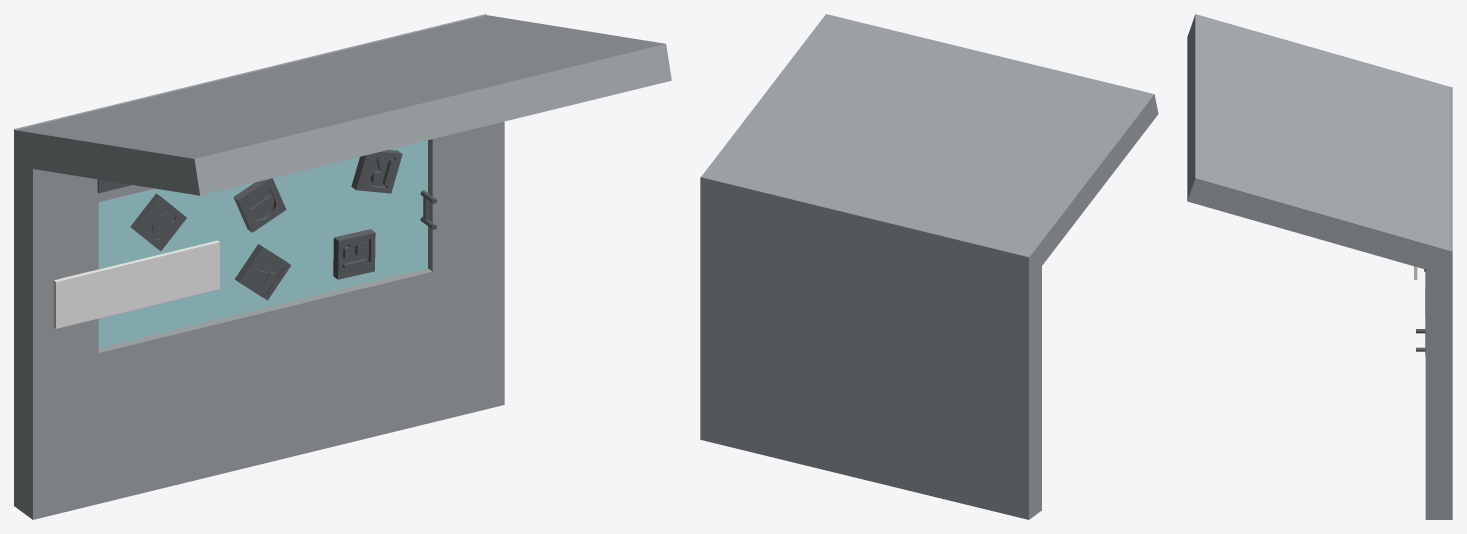
File: tinker.obj
The picture shows the model from 3 angles, left to right: view 1: azimuth 30°, elevation 25°; view 2: azimuth 150°, elevation 25°; view 3: azimuth 270°, elevation 25°; orthographic projection. The views are drawn at different scales.
Parts seen in each view (by area): view 1: group_0_10988977, group_0_-1028593425, group_0_6383466, group_0_16448250; view 2: group_0_10988977; view 3: group_0_10988977.
Part boxes in pixels (x1,y1,x2,y2): group_0_10988977: (14, 14, 671, 519); group_0_-1028593425: (98, 140, 427, 348); group_0_6383466: (97, 149, 436, 300); group_0_16448250: (53, 240, 219, 328); group_0_10988977: (700, 14, 1158, 519); group_0_10988977: (1187, 14, 1452, 519).
Bounding box in the file's own units: 95 × 92.23 × 64.9.
